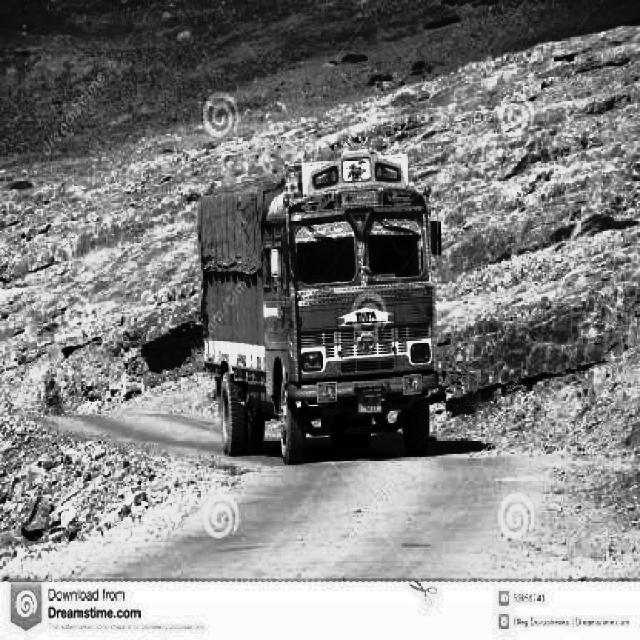HCV: (32, 66, 280, 404)
